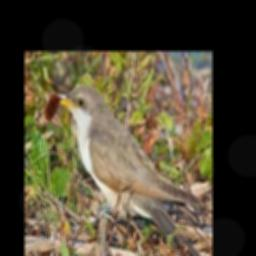Cuckoo: (56, 85, 210, 256)
